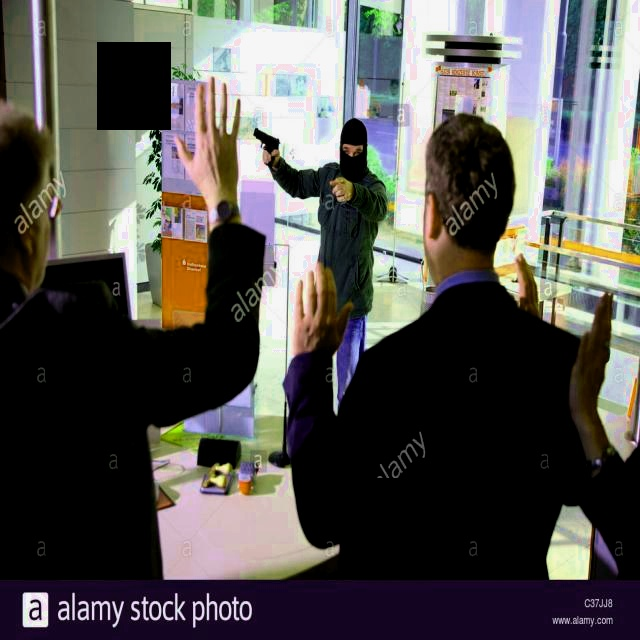gun: (245, 120, 290, 187)
